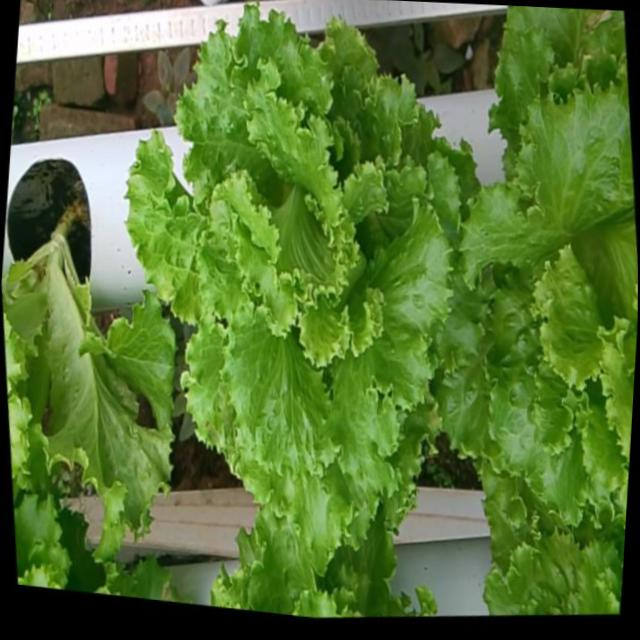Mature: (137, 0, 470, 537), (446, 68, 638, 514)
